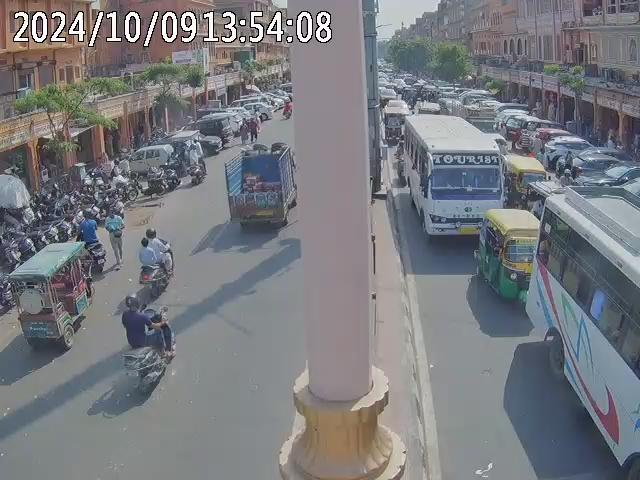auto: (7, 242, 95, 344), (472, 207, 543, 315), (503, 154, 547, 205)
bus: (532, 167, 640, 479), (396, 113, 509, 245)
car: (457, 89, 496, 115)
helmet: (124, 291, 145, 309), (143, 226, 158, 241)
lorry: (223, 142, 296, 234)
person: (242, 115, 260, 143)
scooty-rider: (116, 290, 177, 398), (136, 227, 176, 298)
